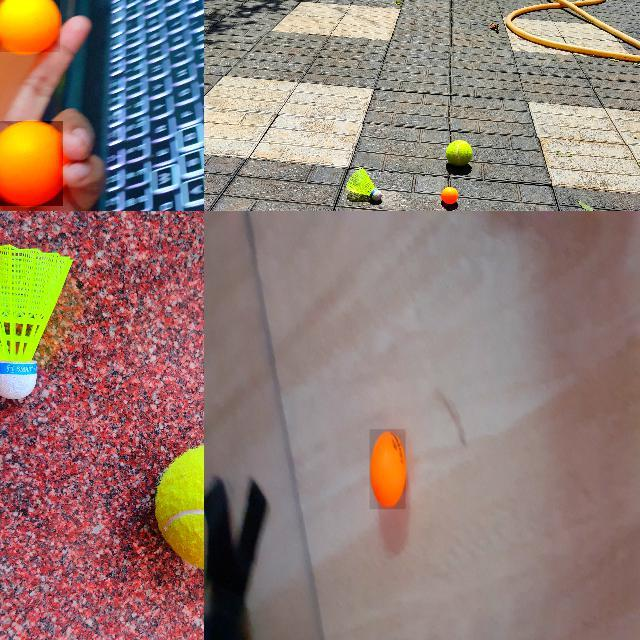ping-pong-ball: (0, 120, 65, 208), (0, 0, 62, 54), (369, 429, 406, 511), (441, 186, 457, 206)
